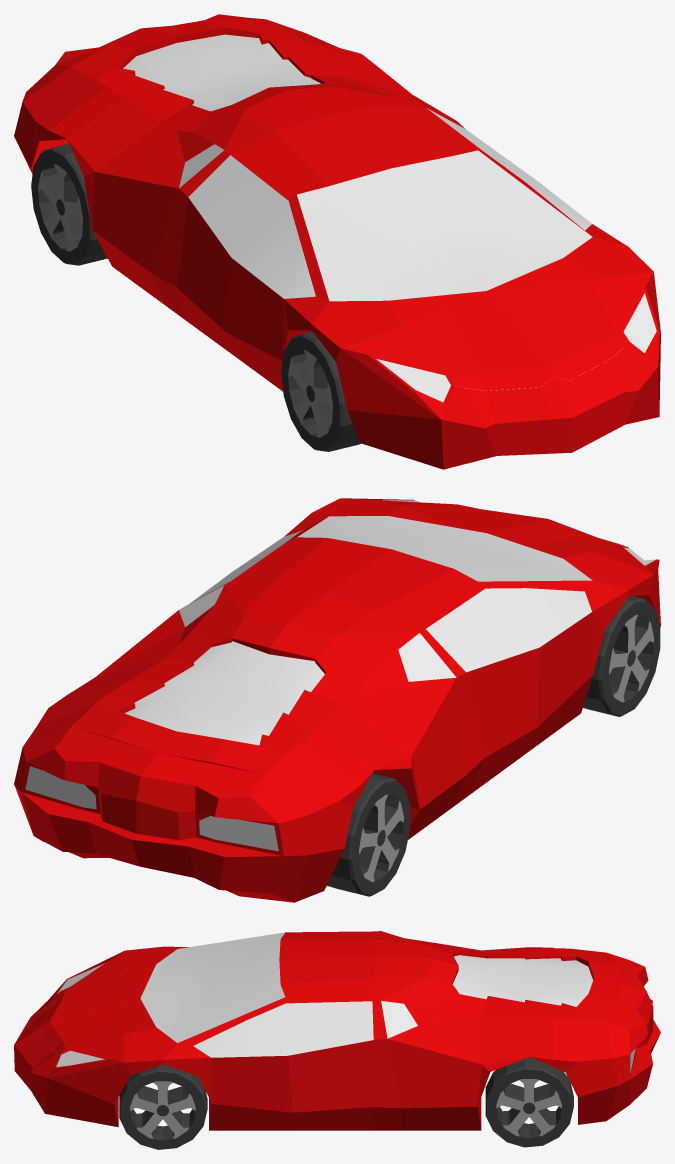
The model's file is lambo.fbx.
The picture shows the model from 3 angles, top to bottom: view 1: azimuth 30°, elevation 25°; view 2: azimuth 150°, elevation 25°; view 3: azimuth 270°, elevation 25°; orthographic projection. The views are drawn at different scales.
Visible parts, largest first — view 1: Cube, Cube.001, Cylinder; view 2: Cube, Cube.001, Cylinder; view 3: Cube, Cube.001, Cylinder.
Boxes of the visible parts, x1=… form: Cube: x1=14, y1=14, x2=660, y2=469; Cube.001: x1=123, y1=34, x2=592, y2=301; Cylinder: x1=31, y1=143, x2=660, y2=451; Cube: x1=14, y1=498, x2=660, y2=902; Cube.001: x1=124, y1=516, x2=592, y2=745; Cylinder: x1=327, y1=596, x2=660, y2=896; Cube: x1=14, y1=931, x2=660, y2=1130; Cube.001: x1=140, y1=932, x2=592, y2=1057; Cylinder: x1=119, y1=1057, x2=573, y2=1149.
Size of the model in its own units: 125 by 68.75 by 293.
